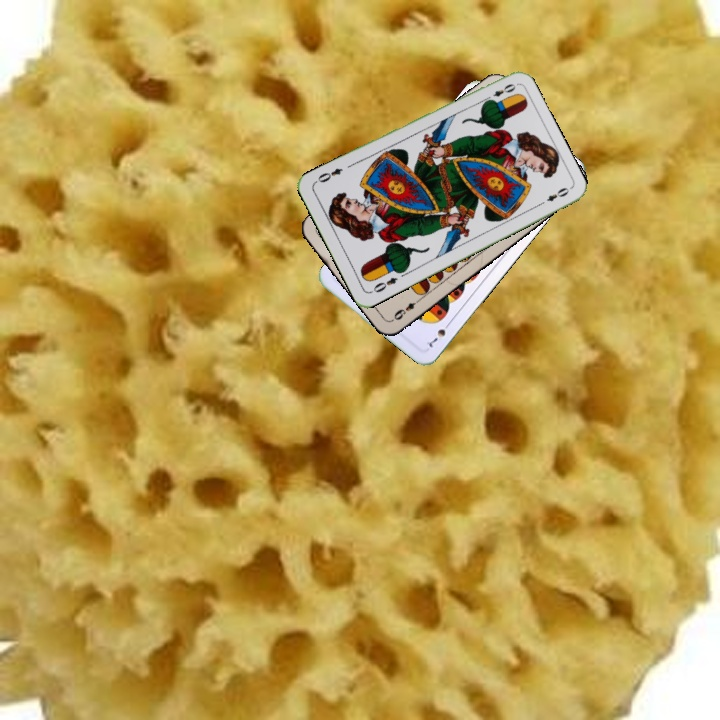E9: (388, 294, 424, 323)
EO: (480, 80, 518, 104), (367, 273, 400, 296)
S7: (422, 317, 454, 350)
